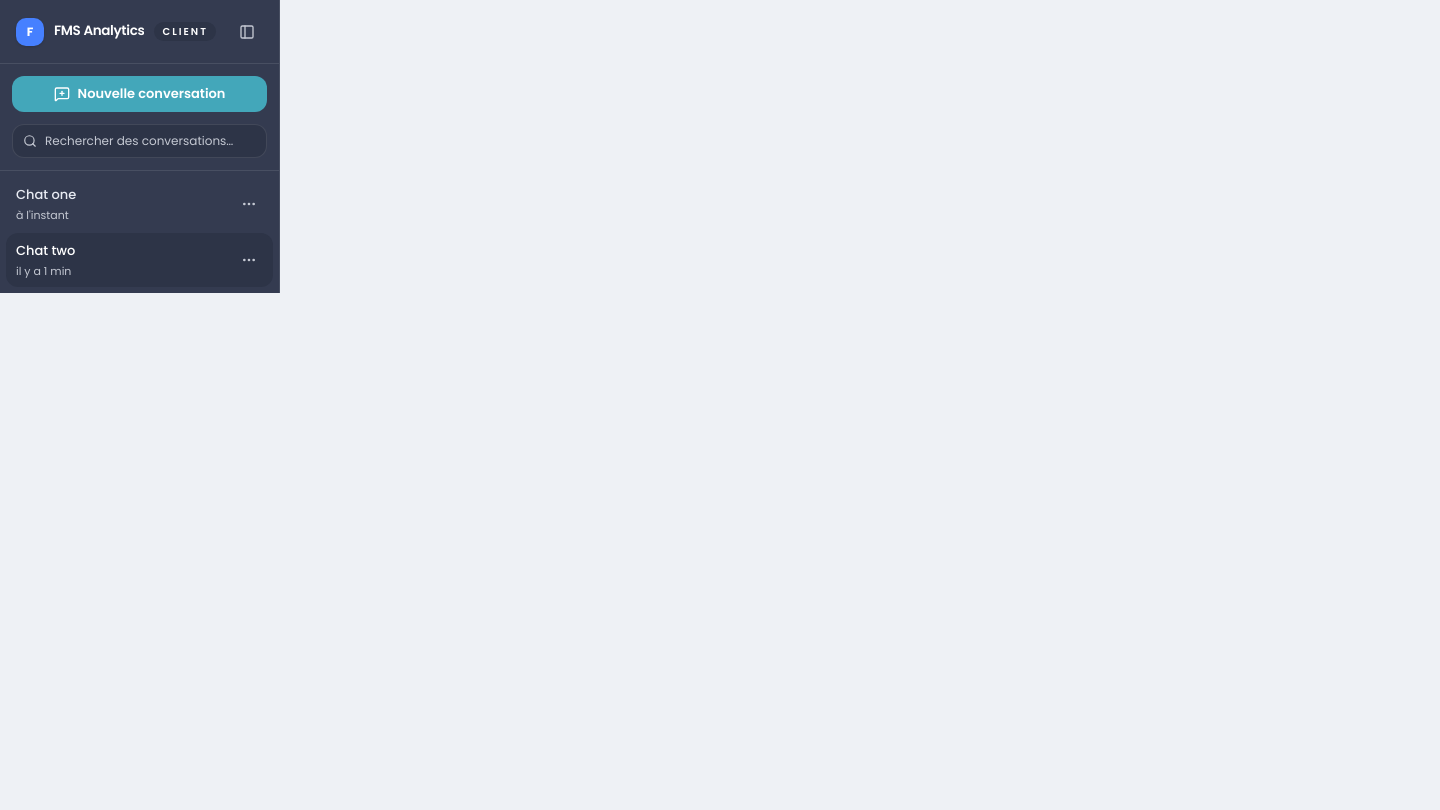
Test: ConversationsSidebar › clicking outside closes the menu
Step 1. Click the 1st button named "Options de la conversation" → point(249, 204), box [235,190,263,218]
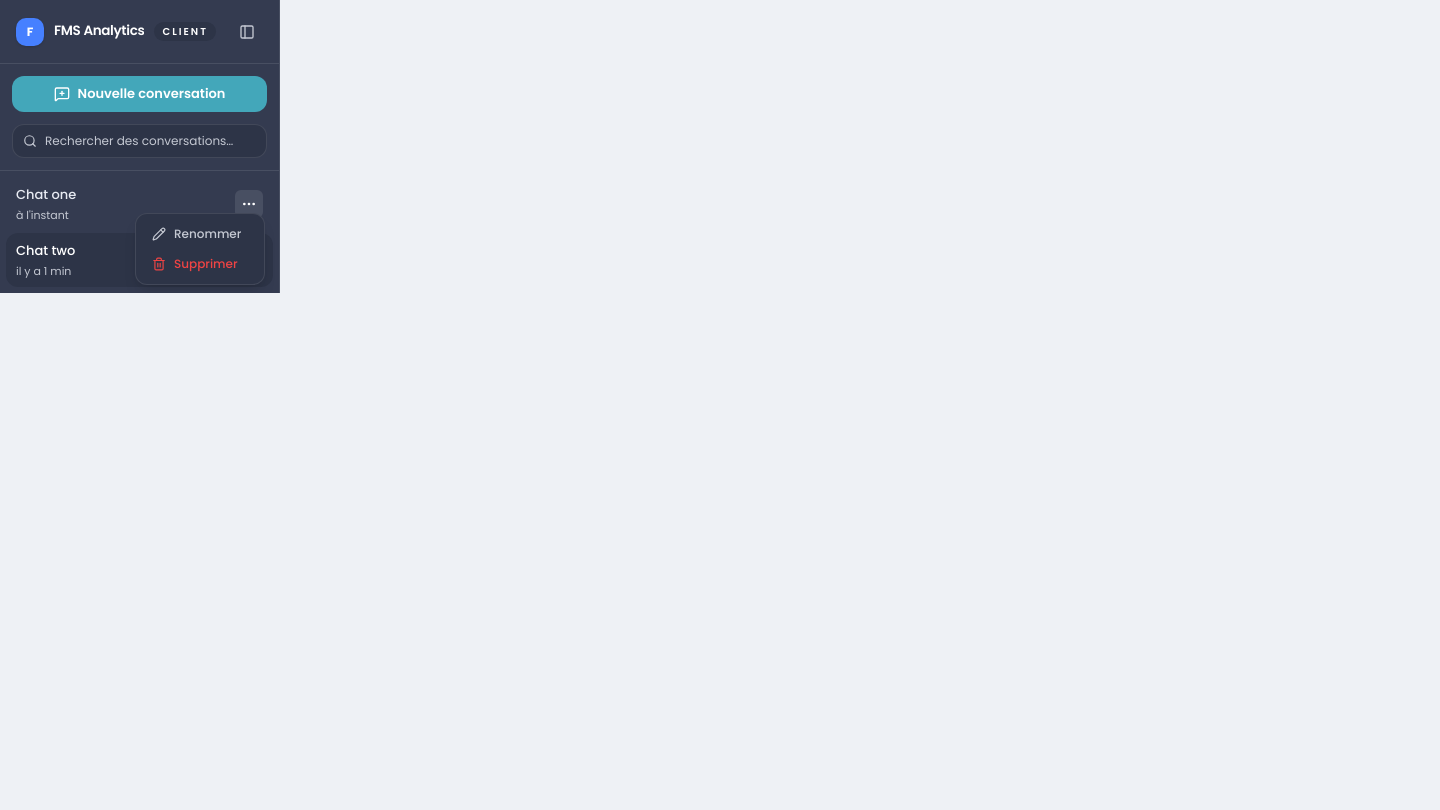
Step 2. Press the mouse on the element that starts with "FMS Analytics" → point(720, 405), box [0,0,1439,809]
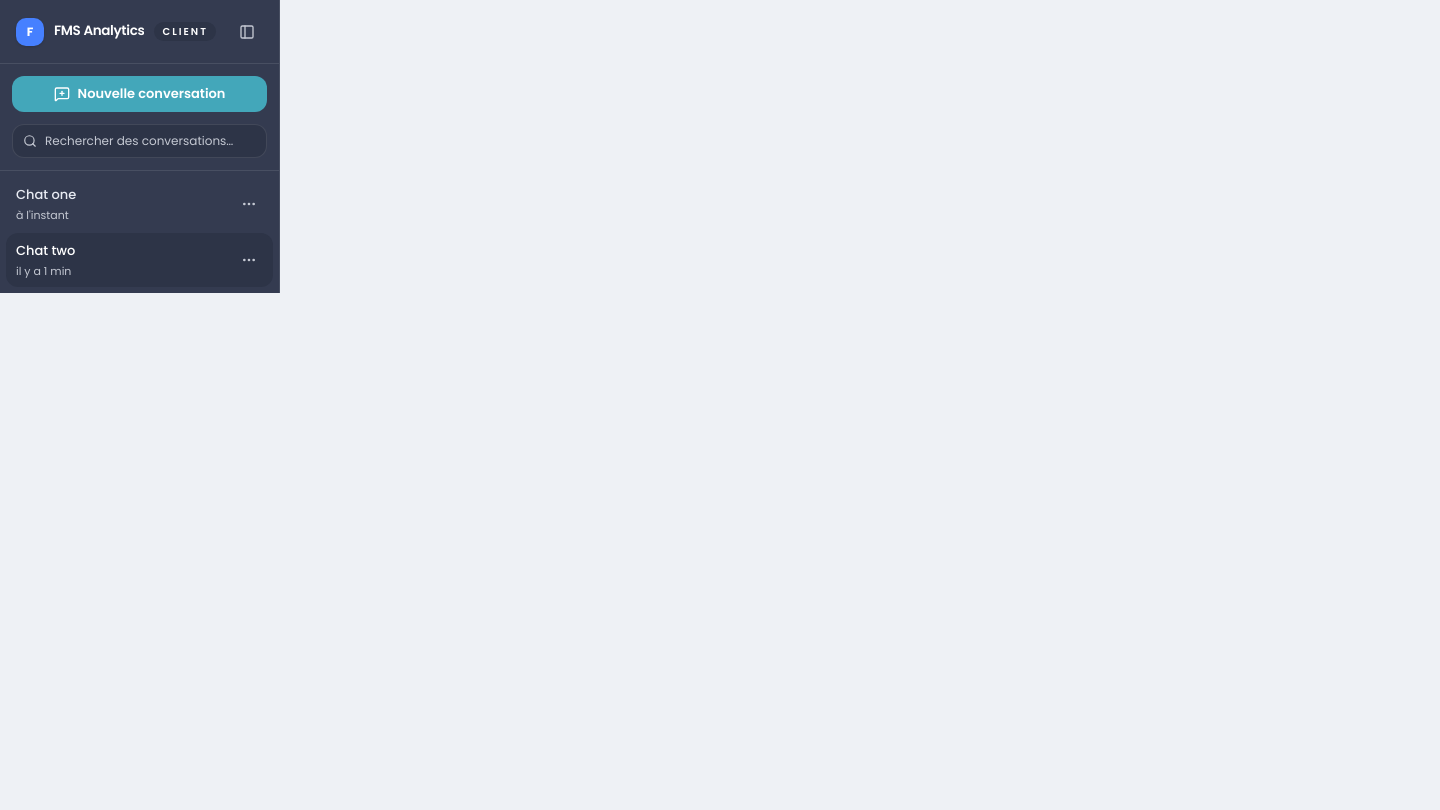
Now the menu is gone
